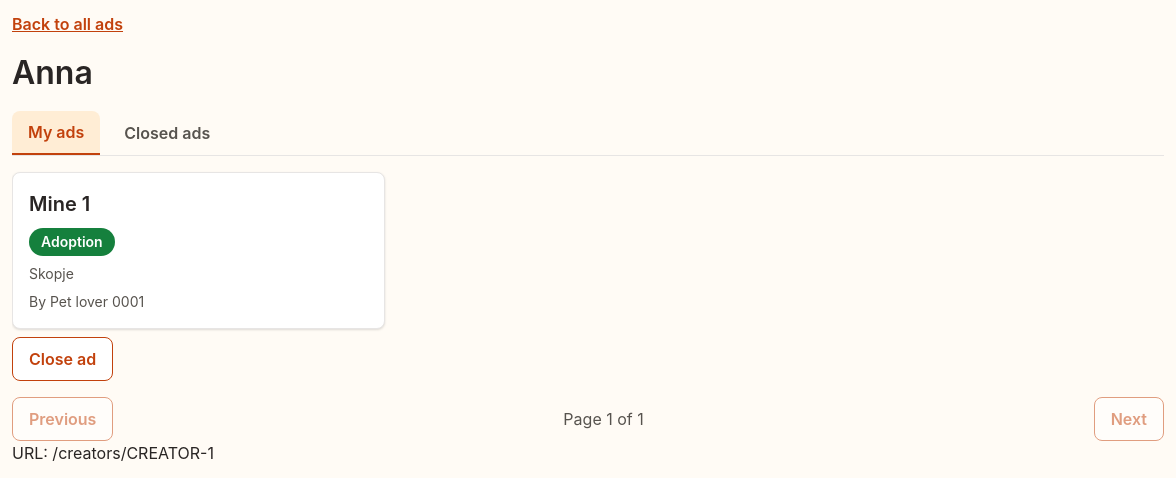
Test case: CreatorProfilePage › closed ads tab › recognises the own profile when the ids differ only in letter case
This screenshot has width=1176, height=478.
Click the tab "Closed ads": (167, 133) left=108, top=111, right=226, bottom=155
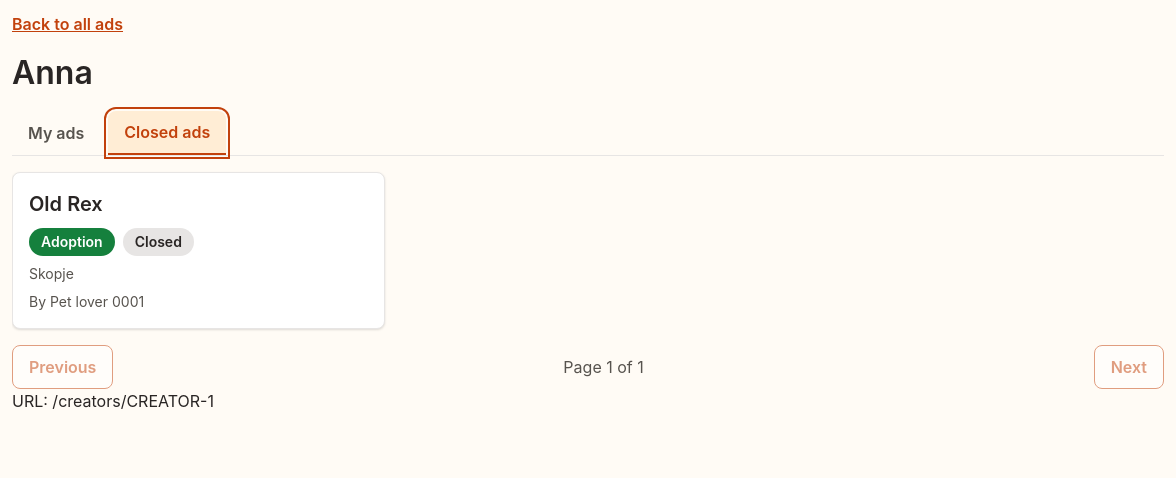
Result: the heading "Old Rex" is shown at left=29, top=192, right=103, bottom=216
